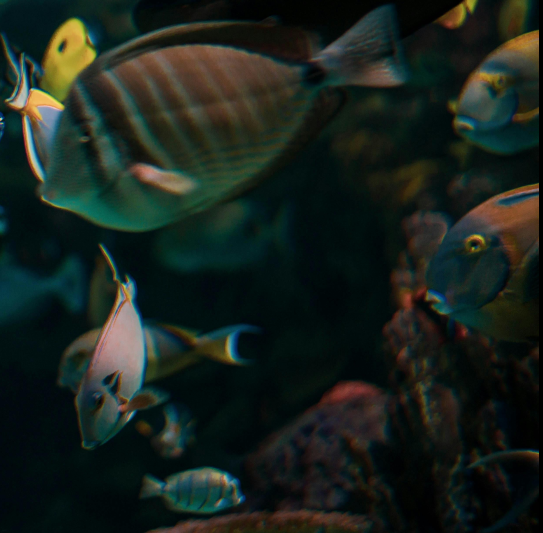fishRound: (38, 4, 409, 235), (424, 181, 543, 345), (75, 243, 156, 453), (57, 320, 263, 392), (447, 31, 541, 157), (4, 61, 64, 183), (138, 467, 245, 515)
